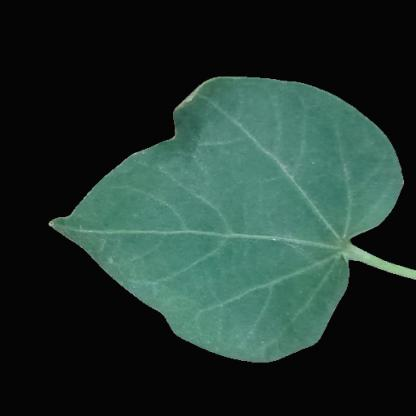healthy: (137, 164, 334, 296), (202, 86, 308, 166), (311, 113, 387, 217), (189, 298, 307, 352), (88, 193, 137, 267)
